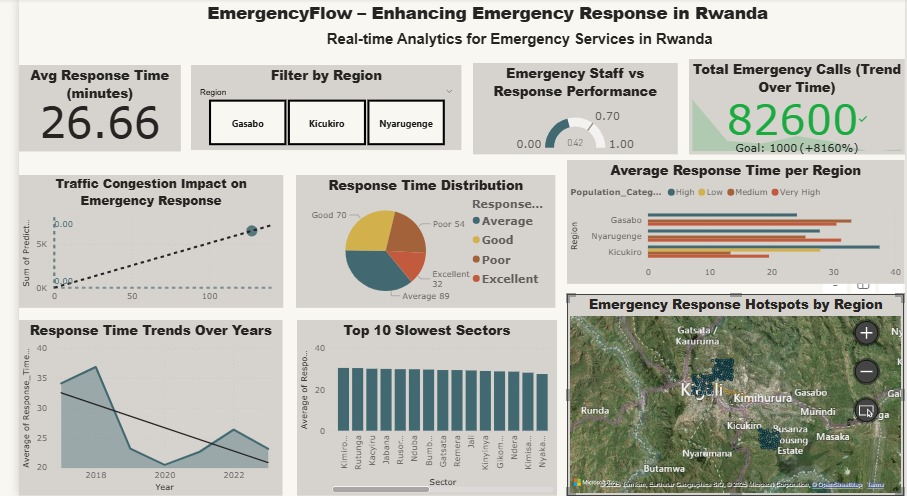

Layout of this report page (visuals, bound fields, positions):
{"tool":"powerbi","page":{"name":"Page 1","canvas":[1280,720],"ordinal":0},"visuals":[{"type":"slicer","title":"Filter by Region","fields":{"Values":["EmergencyFlow_PowerBI_Data.Region"]},"box":[249,96.7,391,123],"z":0},{"type":"map","title":"Emergency Response Hotspots by Region","fields":{"X":["EmergencyFlow_PowerBI_Data.Longitude"],"Y":["EmergencyFlow_PowerBI_Data.Latitude"]},"box":[792.3,427.9,487.7,291.9],"z":1000},{"type":"card","title":"Avg Response Time (minutes)","fields":{"Values":["EmergencyFlow_PowerBI_Data.Avg Response Time"]},"box":[0,97,233.6,124.9],"z":2000},{"type":"textbox","box":[233.9,0,886.6,65.3],"z":3000},{"type":"textbox","box":[351.7,41.7,745.2,47.1],"z":4000},{"type":"lineChart","title":"Response Time Trends Over Years","fields":{"Category":["EmergencyFlow_PowerBI_Data.Year"],"Y":["Avg(EmergencyFlow_PowerBI_Data.Response_Time_Min)"]},"box":[0,465.3,381.2,254.1],"z":5000},{"type":"gauge","title":"Emergency Staff vs Response Performance","fields":{"Y":["EmergencyFlow_PowerBI_Data.Service Level"]},"box":[656.3,94.3,295.5,132.4],"z":6000},{"type":"clusteredColumnChart","title":"Top 10 Slowest Sectors","fields":{"Y":["Avg(EmergencyFlow_PowerBI_Data.Response_Time_Min)"],"Category":["EmergencyFlow_PowerBI_Data.Sector"]},"box":[402,466,376,254],"z":7000},{"type":"pieChart","title":"Response Time Distribution","fields":{"Category":["EmergencyFlow_PowerBI_Data.Response_Category"],"Y":["EmergencyFlow_PowerBI_Data.Case Count"]},"box":[400.7,255.6,375.3,192.2],"z":8000},{"type":"scatterChart","title":"Traffic Congestion Impact on Emergency Response","fields":{"X":["EmergencyFlow_PowerBI_Data.Traffic_Congestion_Index"],"Y":["EmergencyFlow_PowerBI_Data.Predicted_Response_Time"],"Size":["Sum(EmergencyFlow_PowerBI_Data.Ambulance_Calls)"]},"box":[0,256,382,192],"z":9000},{"type":"kpi","title":"Total Emergency Calls (Trend Over Time)","fields":{"Goal":["EmergencyFlow_PowerBI_Data.Target_Calls"],"Indicator":["EmergencyFlow_PowerBI_Data.Total_Calls"],"TrendLine":["EmergencyFlow_PowerBI_Data.Year"]},"box":[968,88,312,138],"z":10000},{"type":"clusteredBarChart","title":"Average Response Time per Region","fields":{"Category":["EmergencyFlow_PowerBI_Data.Region"],"Y":["Avg(EmergencyFlow_PowerBI_Data.Predicted_Response_Time)"],"Series":["EmergencyFlow_PowerBI_Data.Population_Category"]},"box":[792.3,233.9,487.7,179.5],"z":11000}]}

Visuals, with their boxes in screenshot pixels (x1, y1, x2, y2), scaled from the page's 1280x720 canvas onto the 907x496 screenshot:
"Filter by Region" slicer: bbox=(176, 67, 454, 151)
"Emergency Response Hotspots by Region" map: bbox=(561, 295, 906, 495)
"Avg Response Time (minutes)" card: bbox=(0, 67, 166, 153)
textbox: bbox=(166, 0, 794, 45)
textbox: bbox=(249, 29, 777, 61)
"Response Time Trends Over Years" lineChart: bbox=(0, 321, 270, 495)
"Emergency Staff vs Response Performance" gauge: bbox=(465, 65, 674, 156)
"Top 10 Slowest Sectors" clusteredColumnChart: bbox=(285, 321, 551, 495)
"Response Time Distribution" pieChart: bbox=(284, 176, 550, 308)
"Traffic Congestion Impact on Emergency Response" scatterChart: bbox=(0, 176, 271, 309)
"Total Emergency Calls (Trend Over Time)" kpi: bbox=(686, 61, 906, 156)
"Average Response Time per Region" clusteredBarChart: bbox=(561, 161, 906, 285)
